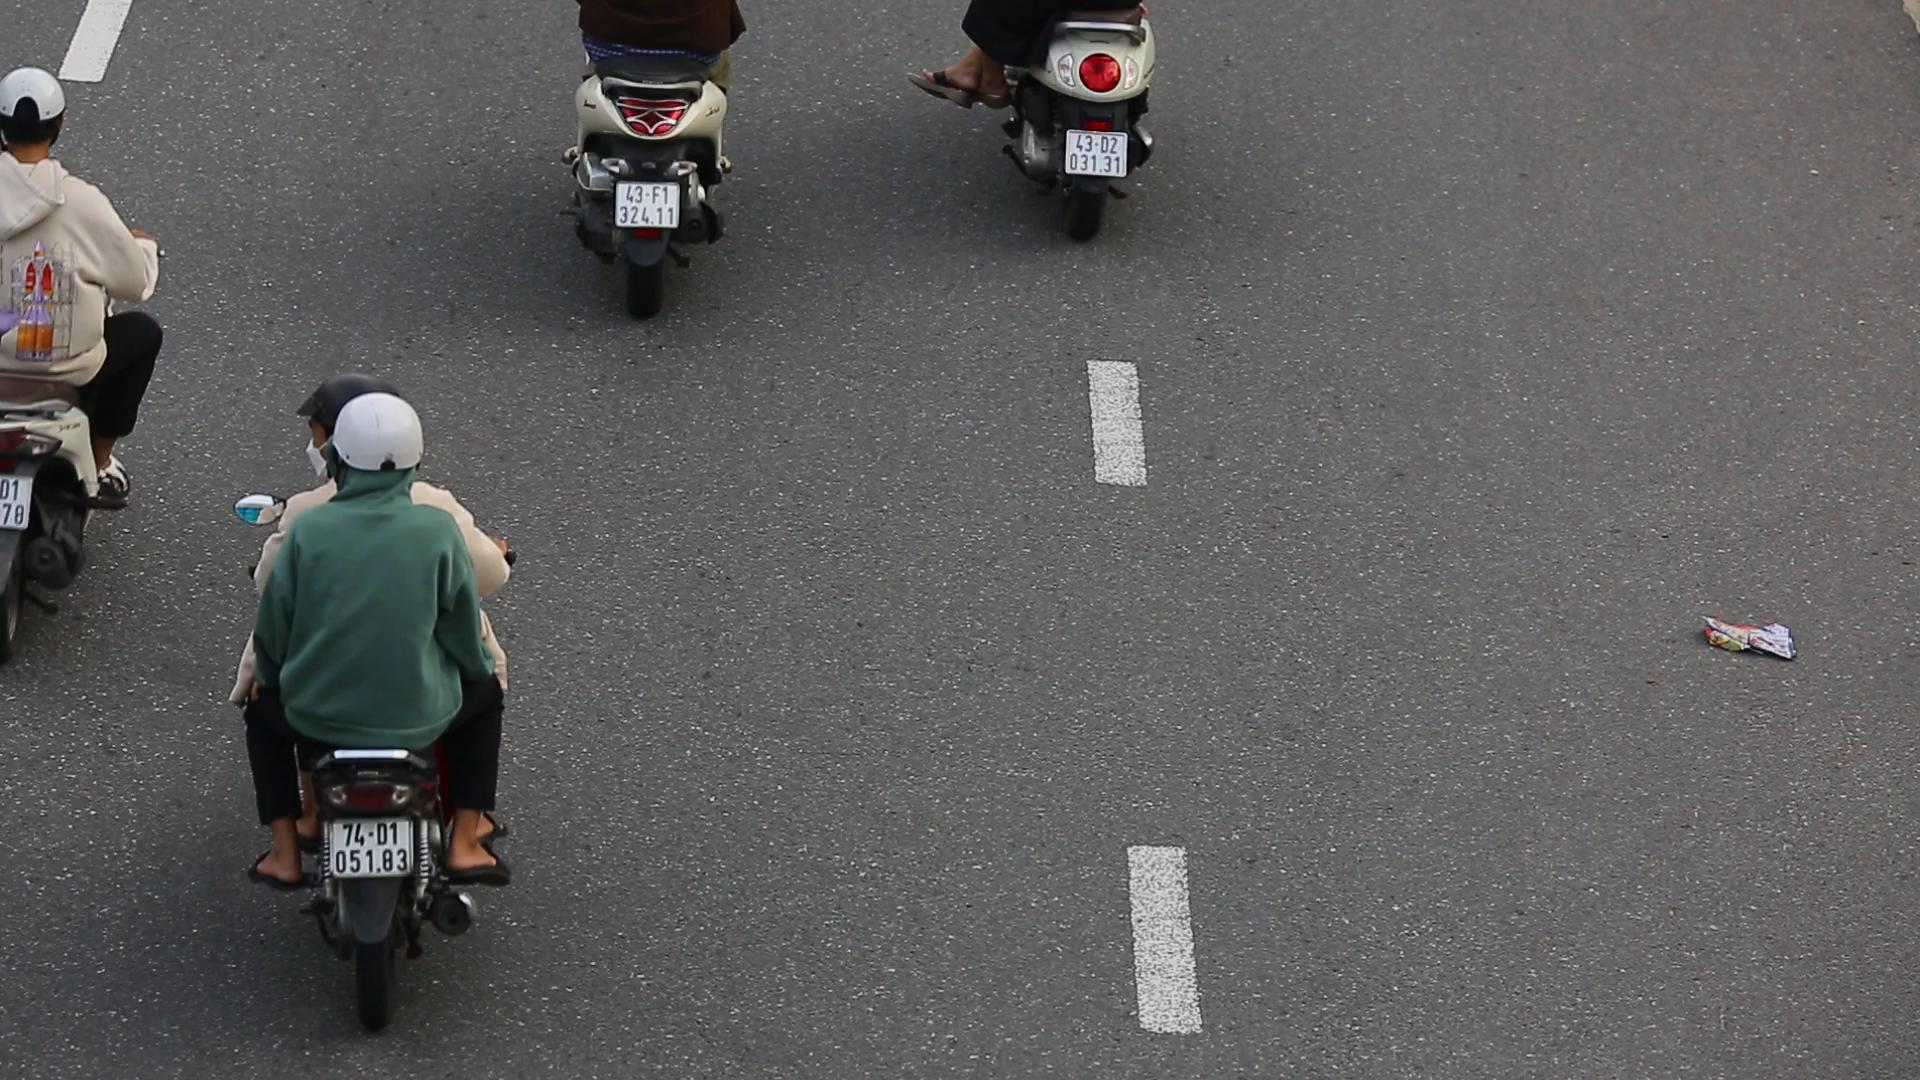motobike: (218, 339, 533, 1034)
